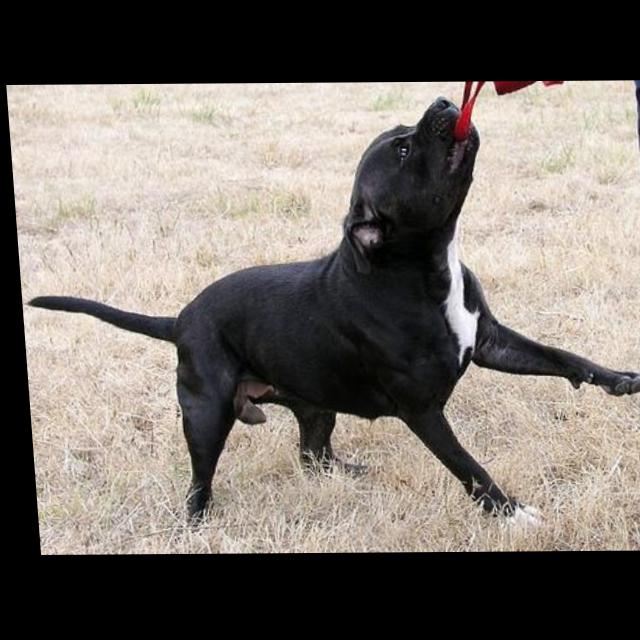staffford: (10, 93, 640, 535)
